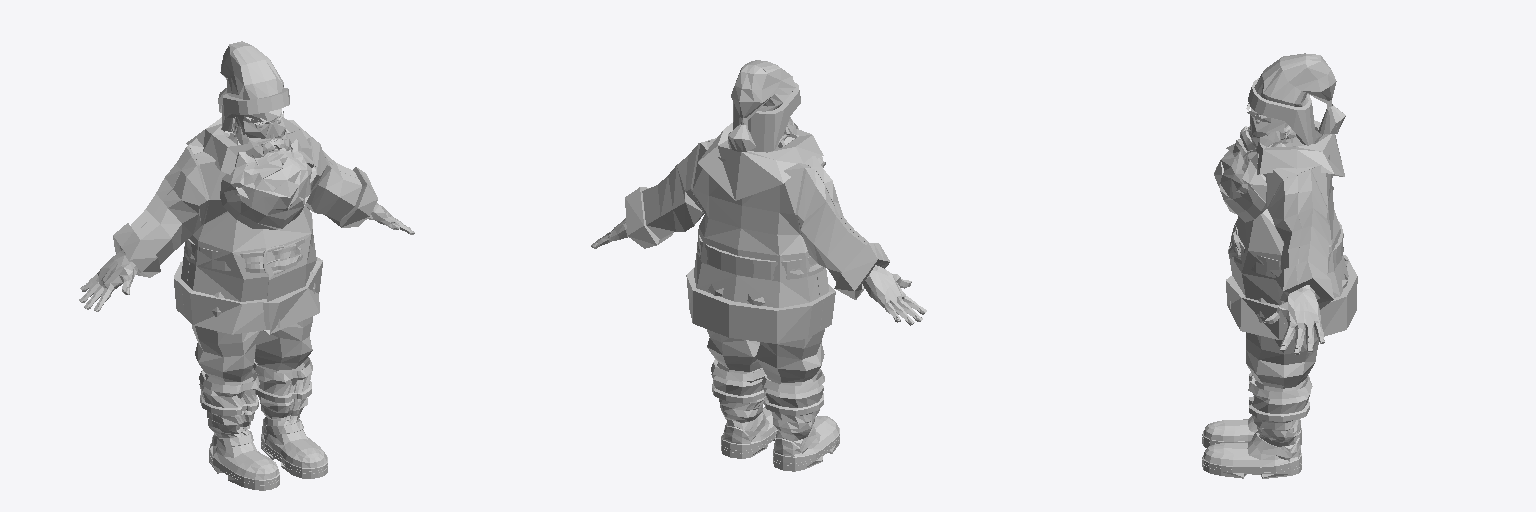
Rendered from santa.obj.
The picture shows the model from 3 angles: view 1: azimuth 30°, elevation 25°; view 2: azimuth 150°, elevation 25°; view 3: azimuth 270°, elevation 25°; orthographic projection.
Visible parts, largest first — view 1: _8, _11, _12, _2, _4, _9, _10, _5, _1; view 2: _8, _11, _12, _4, _9, _10, _5; view 3: _8, _11, _12, _2, _4, _10, _9, _5, _1.
Boxes of the visible parts, x1=… form: _8: x1=131, y1=41, x2=361, y2=301; _11: x1=113, y1=87, x2=377, y2=334; _12: x1=199, y1=357, x2=327, y2=479; _2: x1=220, y1=111, x2=316, y2=229; _4: x1=192, y1=271, x2=315, y2=398; _9: x1=209, y1=419, x2=327, y2=490; _10: x1=81, y1=203, x2=414, y2=311; _5: x1=184, y1=219, x2=312, y2=272; _1: x1=231, y1=108, x2=284, y2=150; _8: x1=642, y1=60, x2=868, y2=307; _11: x1=625, y1=82, x2=889, y2=343; _12: x1=711, y1=359, x2=839, y2=455; _4: x1=707, y1=284, x2=824, y2=385; _9: x1=721, y1=412, x2=839, y2=471; _10: x1=591, y1=218, x2=924, y2=325; _5: x1=697, y1=235, x2=823, y2=279; _8: x1=1229, y1=53, x2=1348, y2=304; _11: x1=1226, y1=78, x2=1357, y2=339; _12: x1=1203, y1=373, x2=1312, y2=466; _2: x1=1214, y1=103, x2=1292, y2=222; _4: x1=1246, y1=258, x2=1348, y2=391; _10: x1=1264, y1=285, x2=1324, y2=354; _9: x1=1202, y1=415, x2=1301, y2=478; _5: x1=1228, y1=221, x2=1343, y2=277; _1: x1=1249, y1=108, x2=1304, y2=146.
Size of the model in its own units: 1.79 by 2.1 by 0.7374.